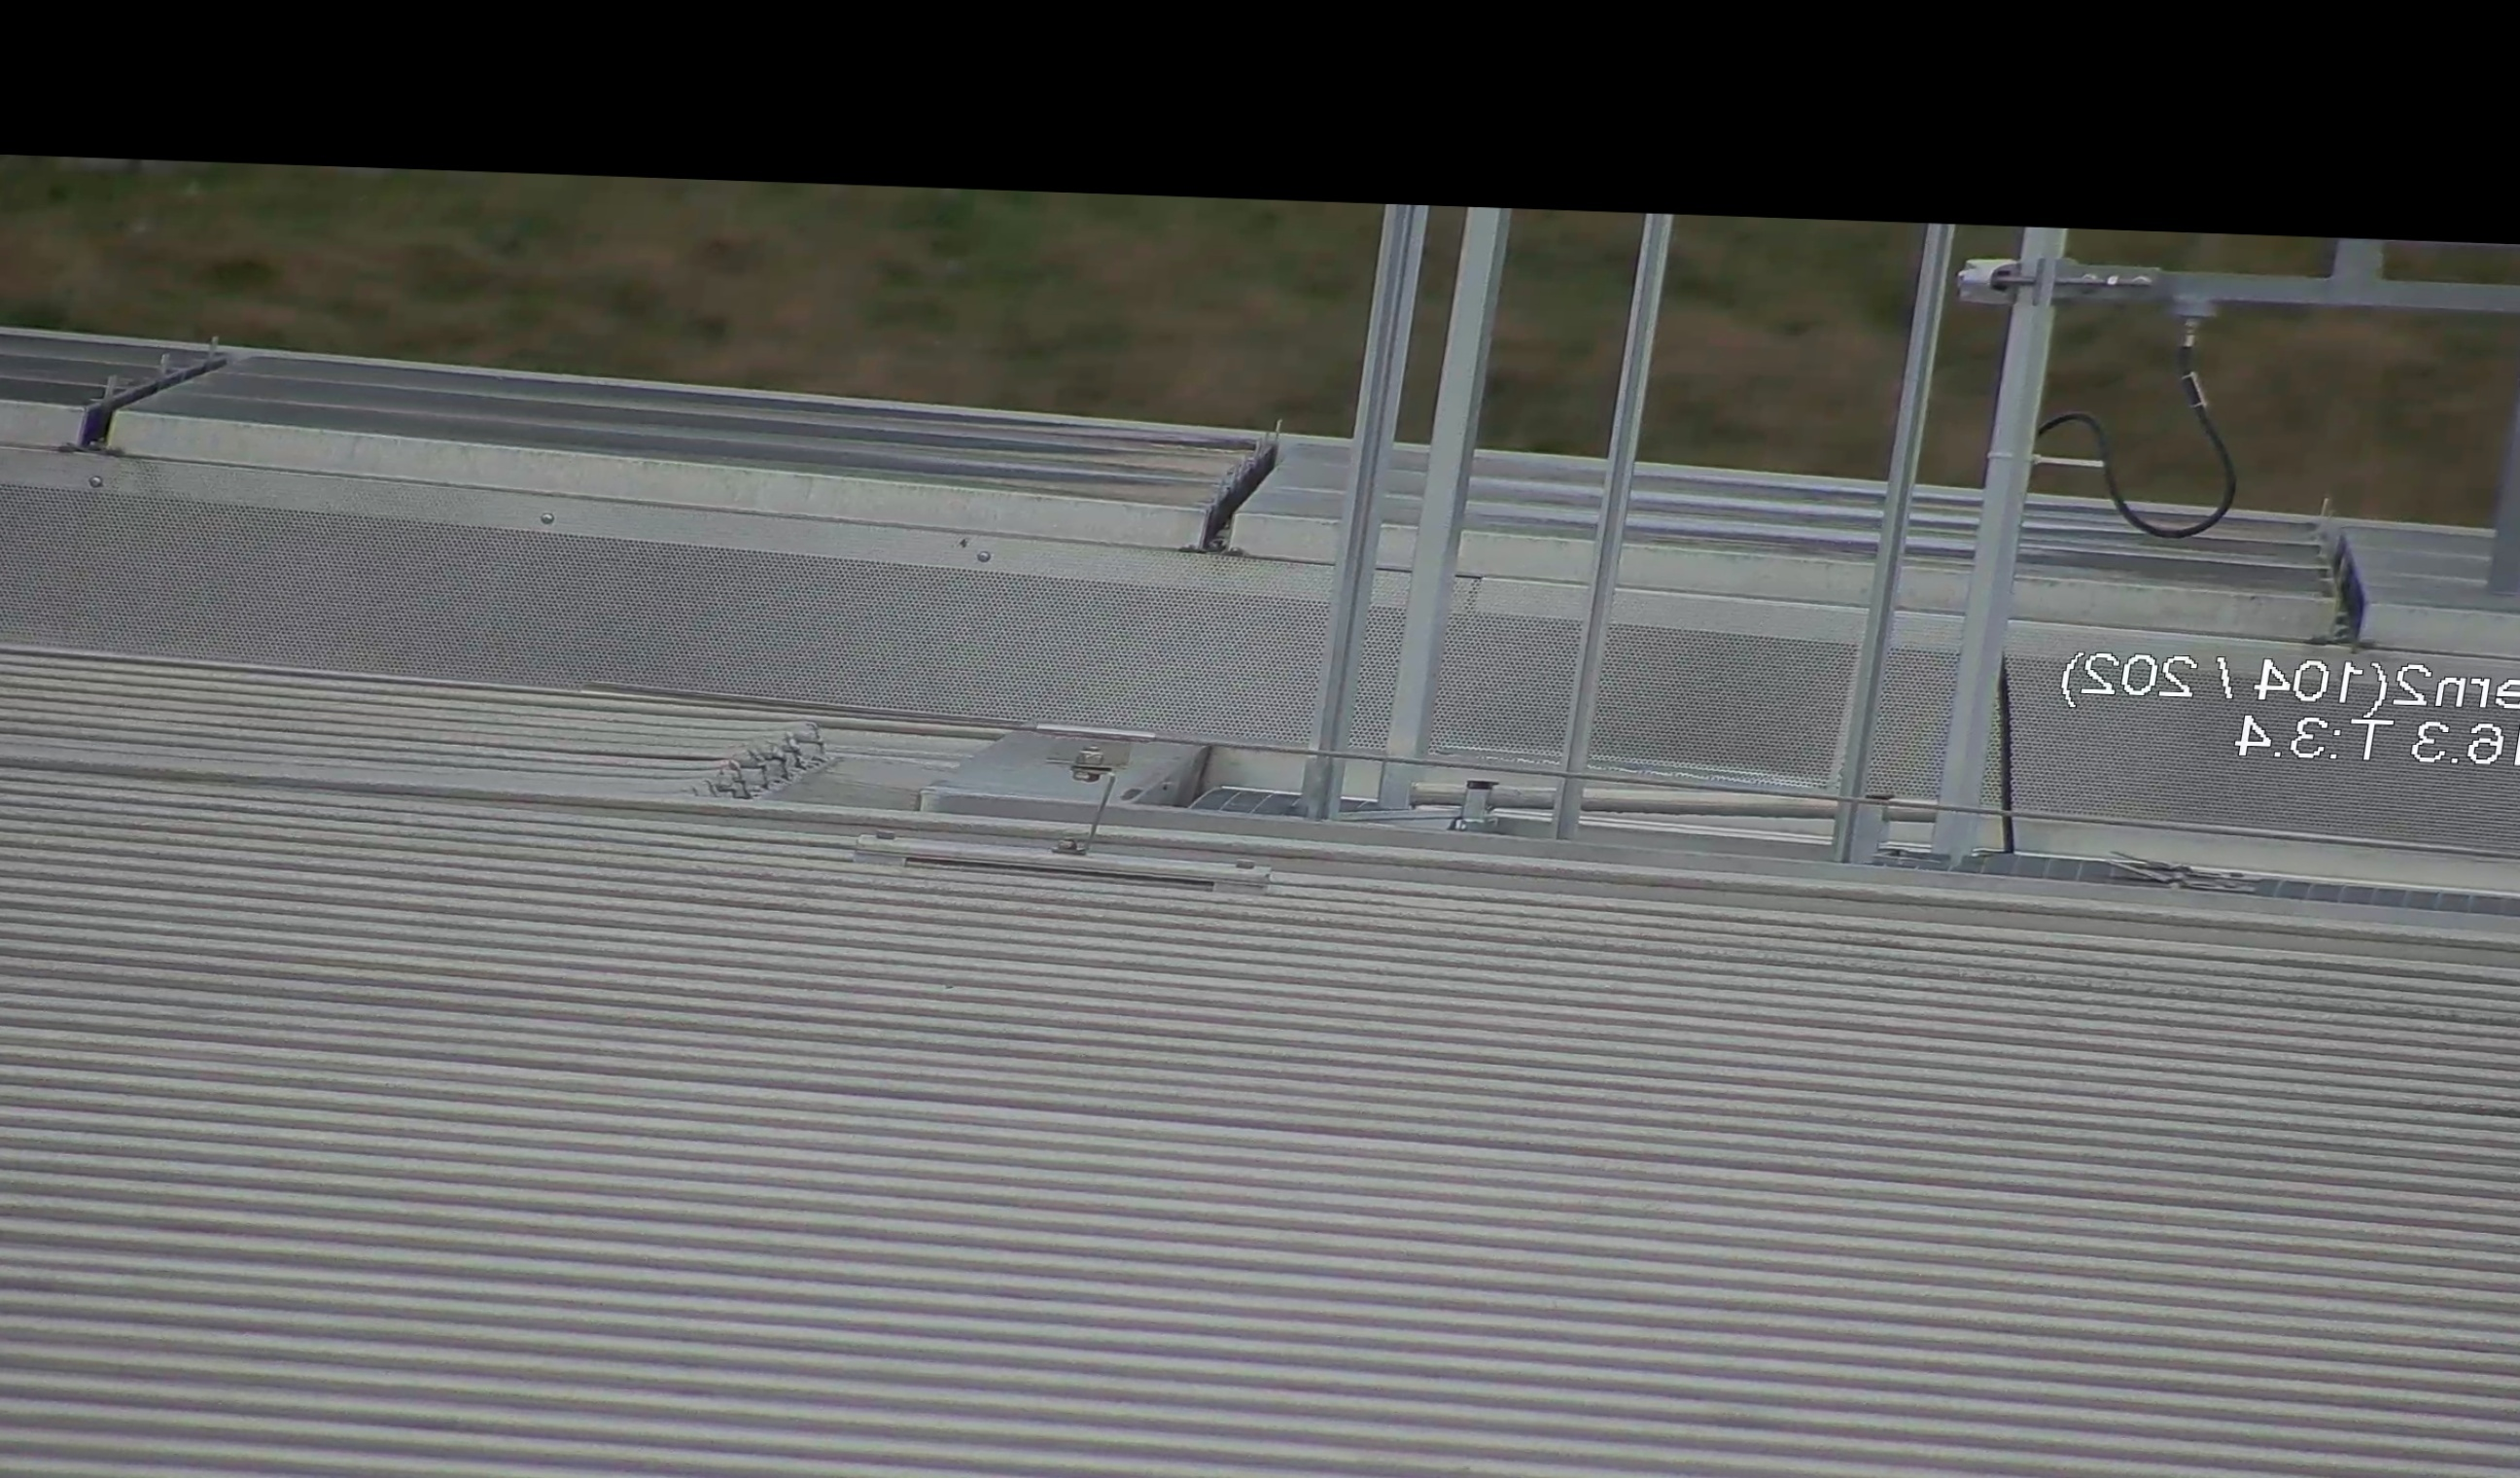Other: (1173, 408, 1303, 556)
